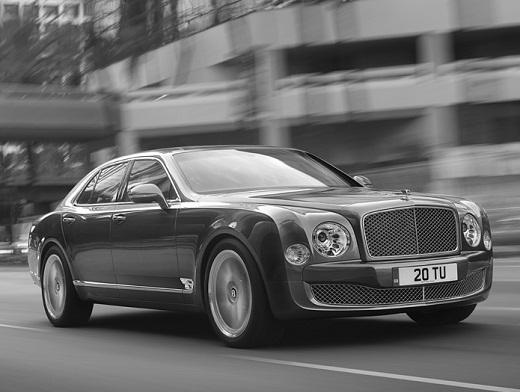car: (26, 143, 496, 352)
